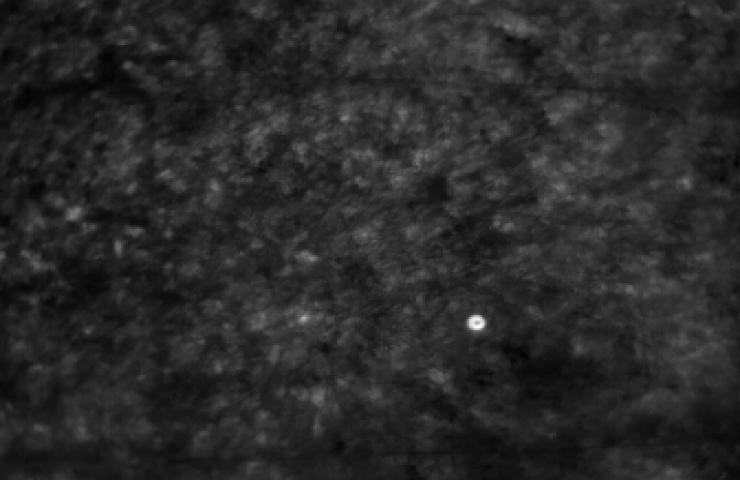landmines: (466, 313, 490, 333)
